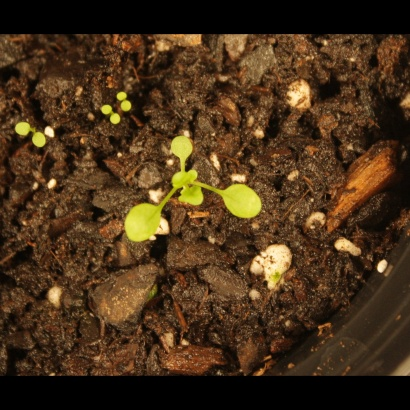leaf: (216, 175, 266, 222), (120, 202, 165, 248), (173, 186, 208, 215), (169, 133, 201, 159), (169, 167, 205, 190), (8, 114, 35, 142), (28, 129, 51, 152), (89, 97, 112, 120), (105, 113, 128, 136), (110, 79, 133, 102), (120, 102, 143, 125)
